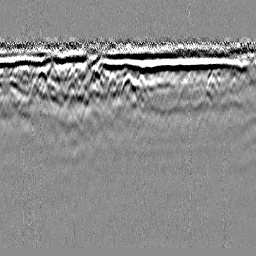cavity: (119, 73, 136, 99)
